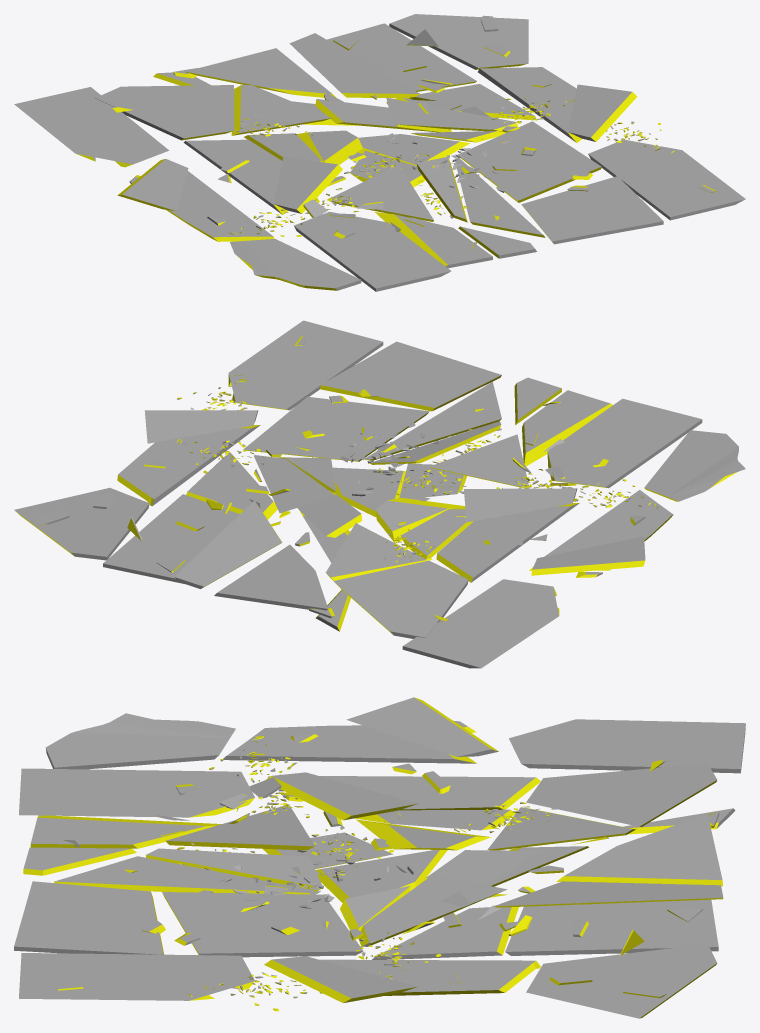
Rendered from floorDebris_debris_002.fbx.
The picture shows the model from 3 angles, top to bottom: view 1: azimuth 30°, elevation 25°; view 2: azimuth 150°, elevation 25°; view 3: azimuth 270°, elevation 25°; orthographic projection. The views are drawn at different scales.
Parts seen in each view (by area): view 1: bulletRigidSet2Solved1_05; view 2: bulletRigidSet2Solved1_05; view 3: bulletRigidSet2Solved1_05.
Boxes of the visible parts, x1,y1,x2,y2 form: bulletRigidSet2Solved1_05: (14, 14, 745, 291); bulletRigidSet2Solved1_05: (14, 320, 745, 668); bulletRigidSet2Solved1_05: (14, 697, 745, 1018).
Size of the model in its own units: 112 by 4.74 by 112.
